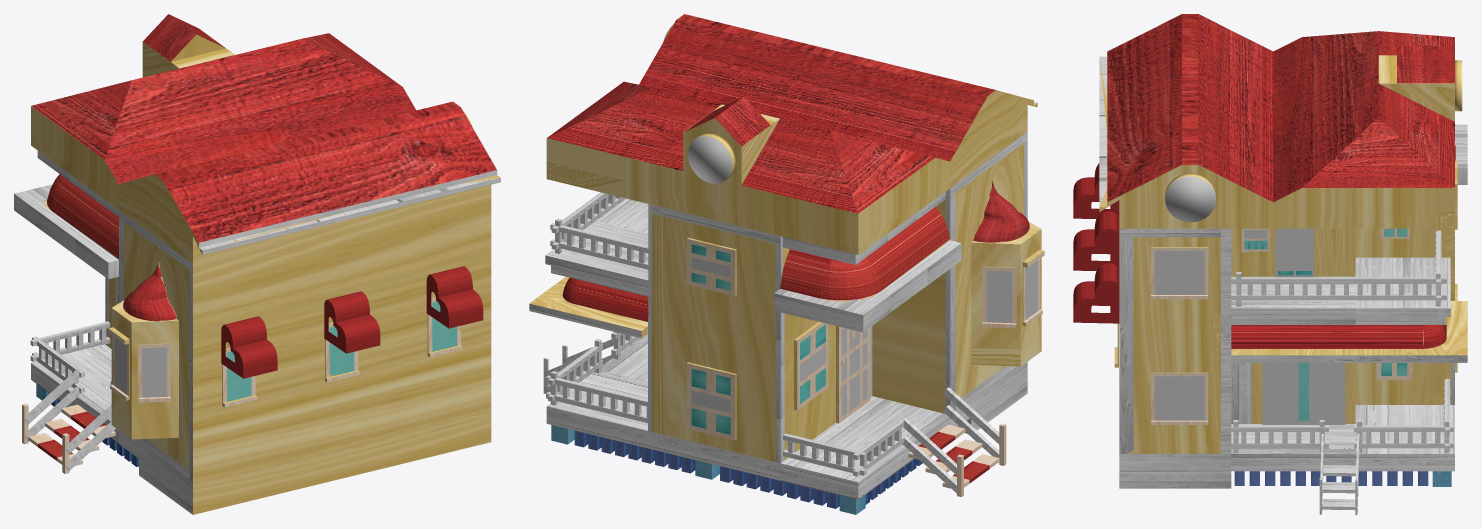
The model's file is casa_heeler.fbx.
3 views of the same model, side by side, from view 1: azimuth 30°, elevation 25°; view 2: azimuth 150°, elevation 25°; view 3: azimuth 270°, elevation 25° (orthographic). The views are drawn at different scales.
Visible parts, largest first — view 1: Cube; view 2: Cube; view 3: Cube.
Part boxes in pixels (x1,y1,x2,y2): Cube: [14, 14, 500, 514]; Cube: [529, 14, 1044, 514]; Cube: [1073, 14, 1467, 514].
Size of the model in its own units: 1888 by 1568 by 1548.
